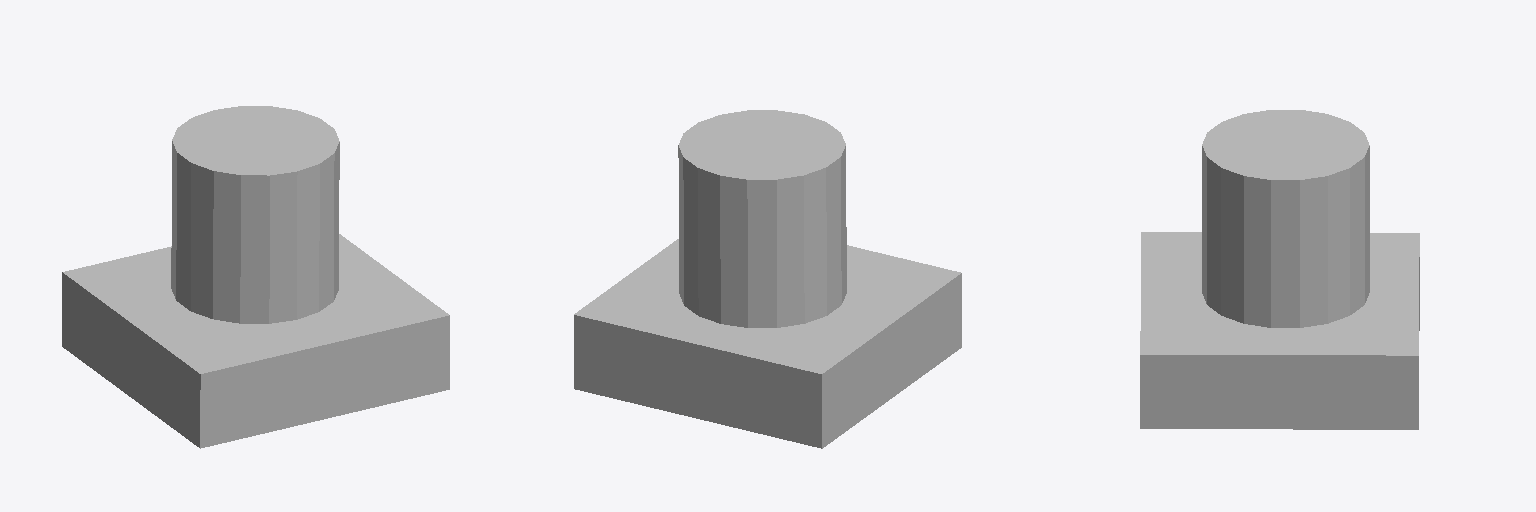
Rendered from Opticalcamera.obj.
The picture shows the model from 3 angles: view 1: azimuth 30°, elevation 25°; view 2: azimuth 150°, elevation 25°; view 3: azimuth 270°, elevation 25°; orthographic projection.
Visible parts, largest first — view 1: Box001, Cylinder001; view 2: Box001, Cylinder001; view 3: Box001, Cylinder001.
Part boxes in pixels (x1,y1,x2,y2): Box001: (62, 234, 449, 448); Cylinder001: (171, 106, 339, 323); Box001: (574, 239, 961, 448); Cylinder001: (678, 110, 846, 327); Box001: (1140, 232, 1419, 429); Cylinder001: (1202, 110, 1369, 327).
Bounding box in the file's own units: 46.05 × 39.67 × 44.53.